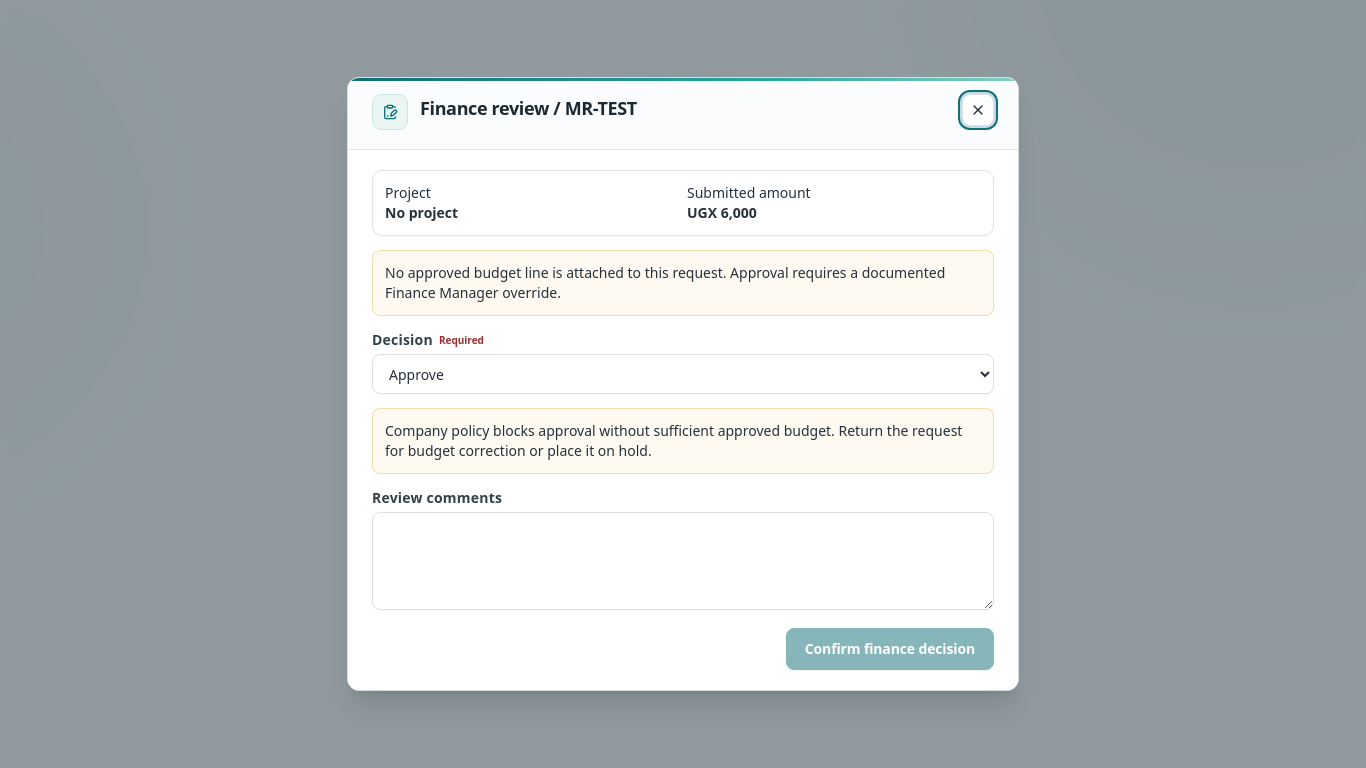
Scenario: Finance review readiness › does not offer a bypass of the company block policy
expect the text "Company policy blocks approval" is shown: met, box [385,421,962,460]
expect the button "Confirm finance decision" is disabled: met, box [786,628,994,670]
Select "Return for correction" in the dropdown: point(683, 374) [372,354,994,394]
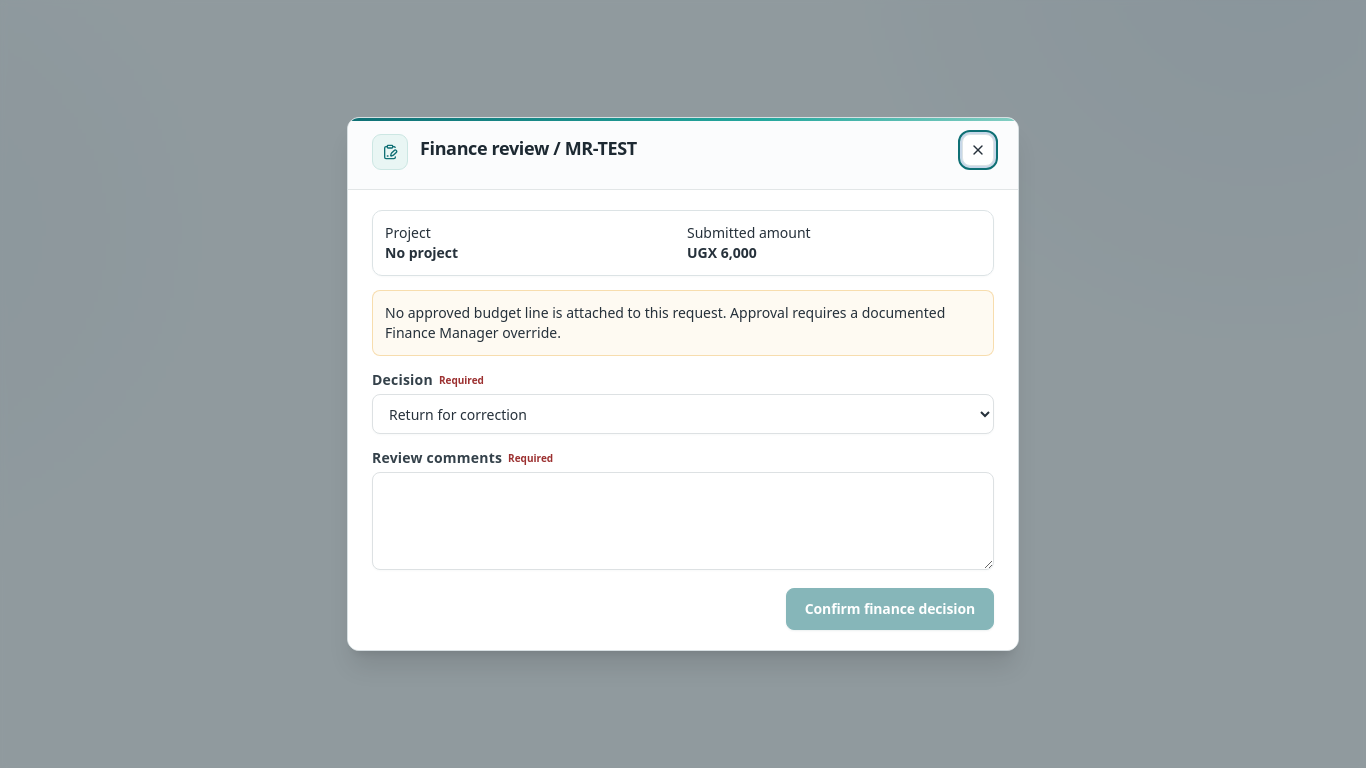
In the text box: point(683, 521) [372,472,994,570], type "Please arrange the approved budget line."
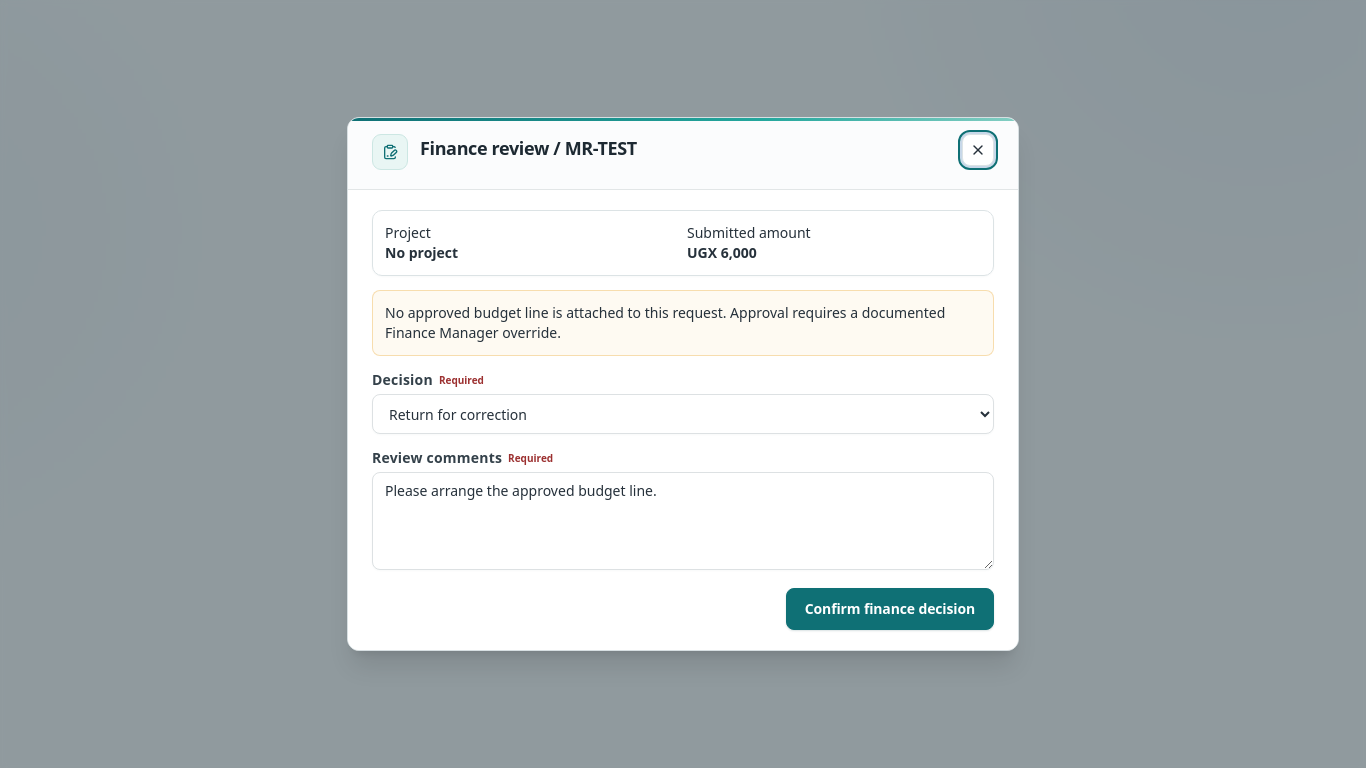
expect the button "Confirm finance decision" is enabled: met, box [786,588,994,630]
